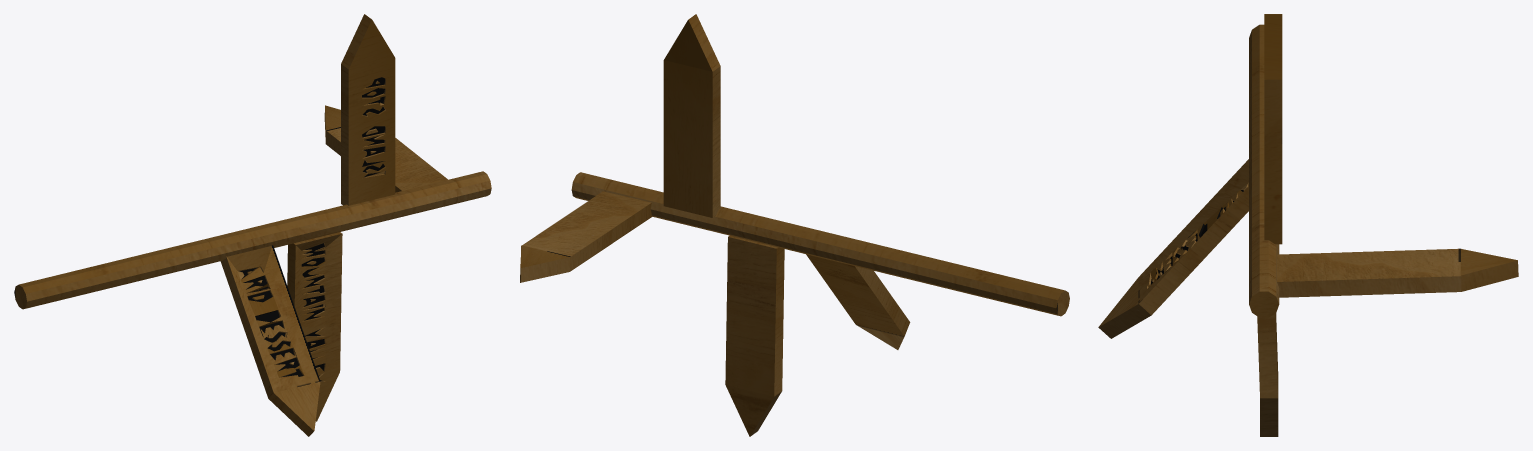
Rendered from model_intro_directionalPost 1.fbx.
3 renders of one model, left to right at view 1: azimuth 30°, elevation 25°; view 2: azimuth 150°, elevation 25°; view 3: azimuth 270°, elevation 25°, orthographic. The views are drawn at different scales.
Parts seen in each view (by area): view 1: Cylinder; view 2: Cylinder; view 3: Cylinder.
Part boxes in pixels (x1,y1,x2,y2): Cylinder: (14,14,491,436); Cylinder: (520,14,1069,436); Cylinder: (1098,14,1518,436).
Bounding box in the file's own units: 5.99 × 4.76 × 3.98.
Materials: 1 (1 with a texture image).
